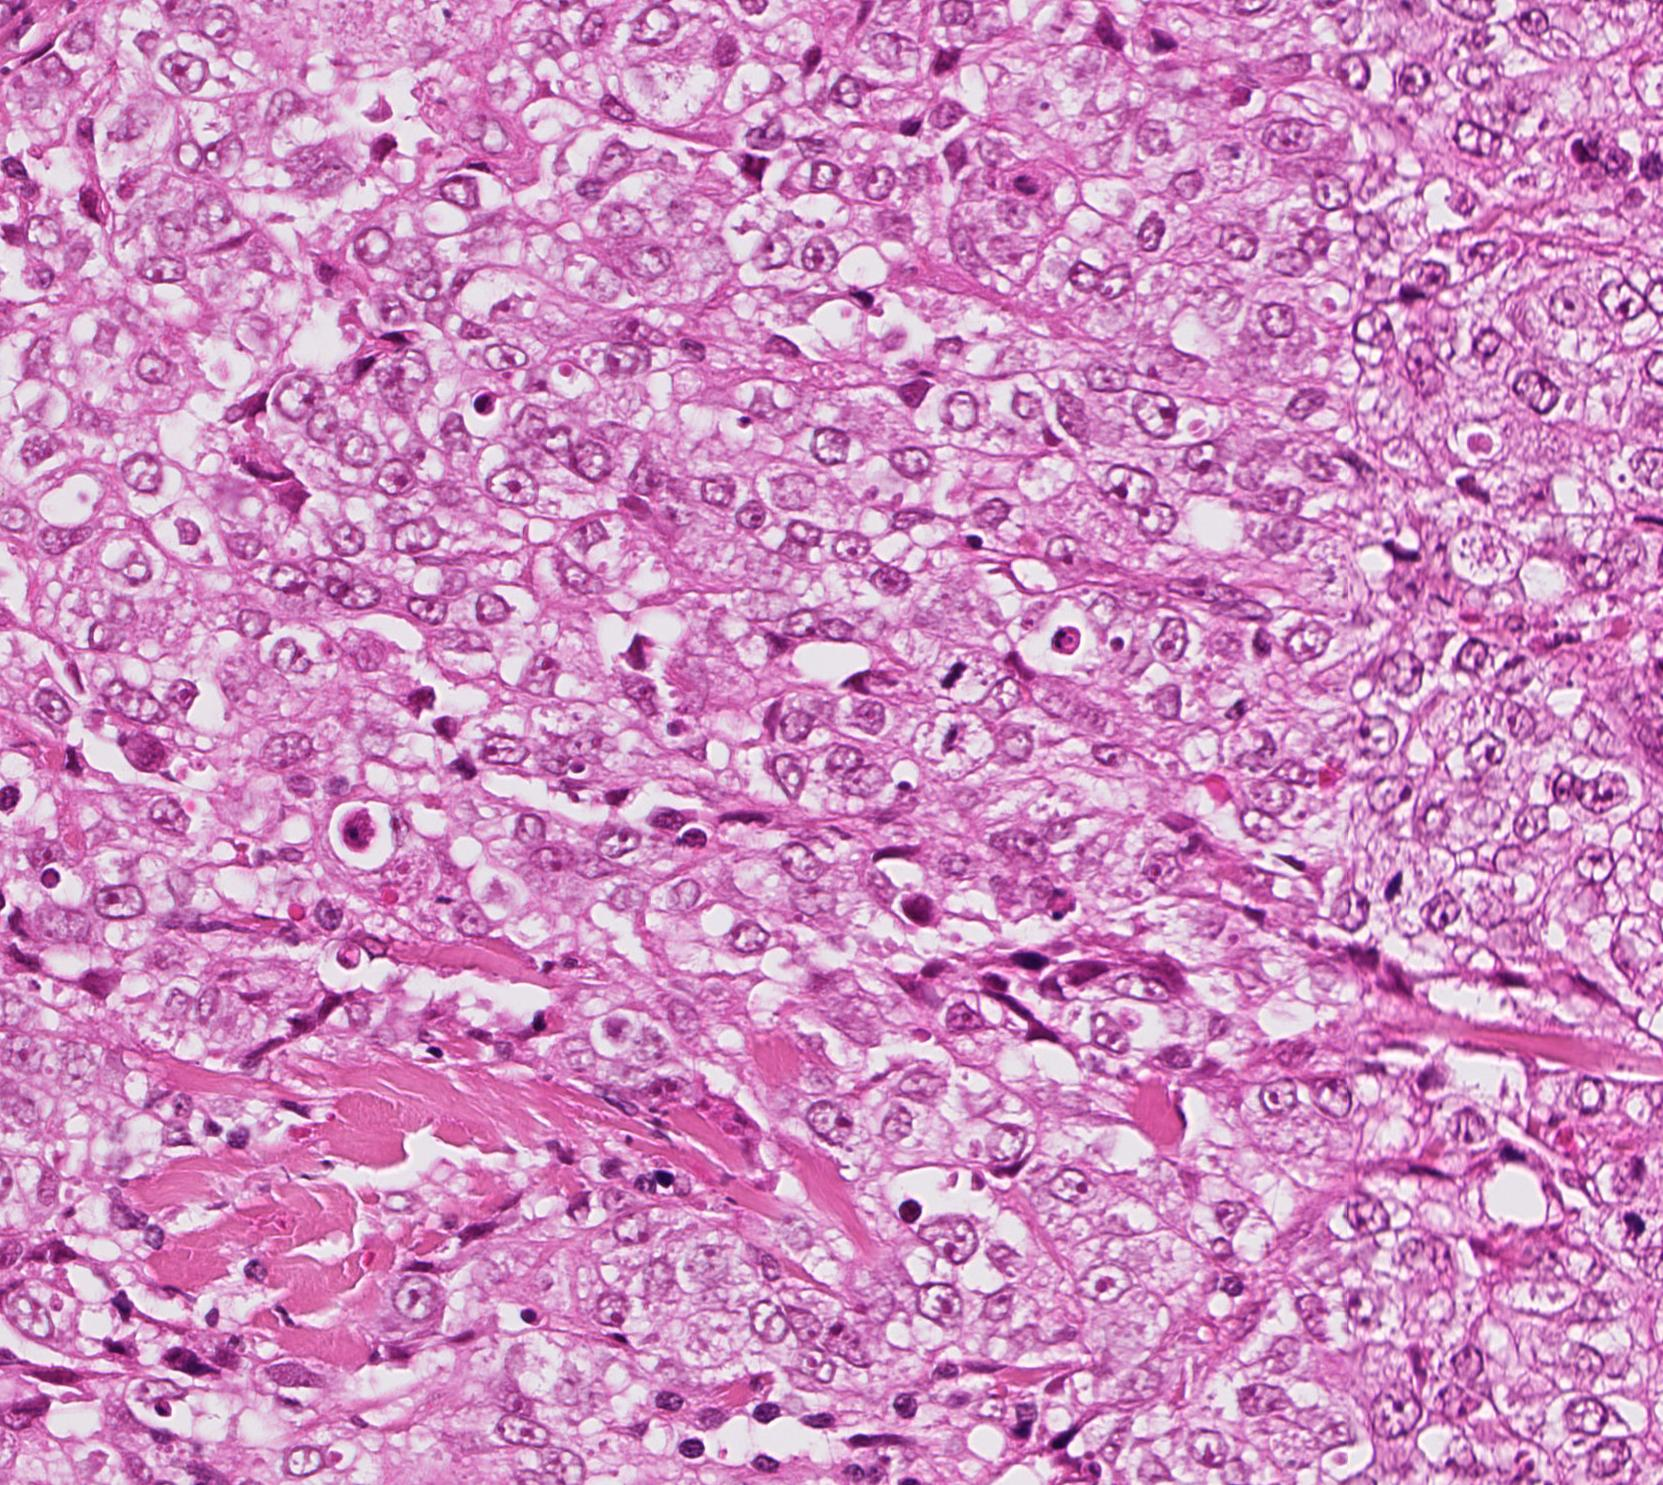mitosis: (928, 639, 988, 699)
